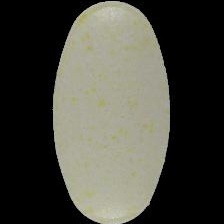52125-222: (0, 0, 224, 224)
